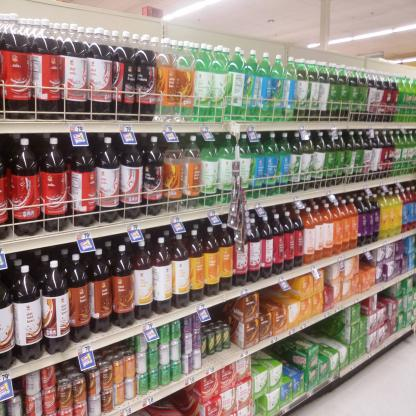Void: (316, 324, 339, 348), (282, 343, 294, 373), (212, 306, 229, 326), (263, 291, 274, 307), (380, 292, 392, 304), (360, 298, 366, 318)
